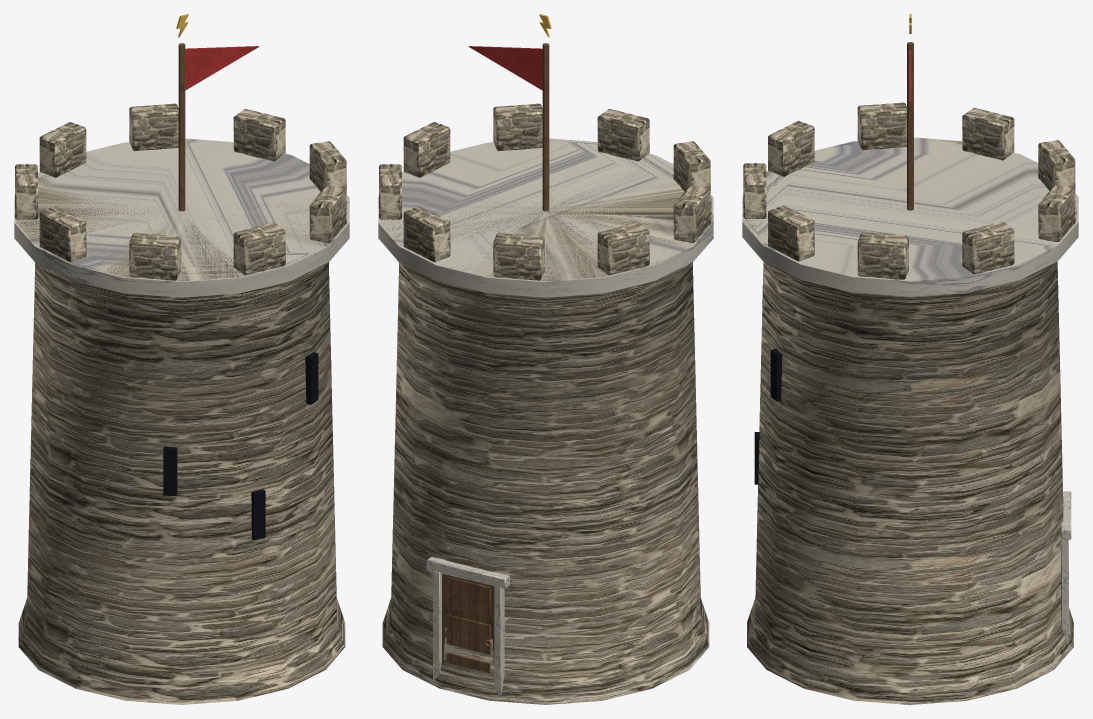
Rendered from infra_wall-tower.glb.
3 renders of one model, left to right at view 1: azimuth 30°, elevation 25°; view 2: azimuth 150°, elevation 25°; view 3: azimuth 270°, elevation 25°, orthographic.
Visible parts, largest first — view 1: stone, step, dark, cloth_red, wood_dark; view 2: stone, step, wood_dark, cloth_red; view 3: stone, step, wood_dark, dark.
Boxes of the visible parts, bbox=[...] form: stone: bbox=[15, 103, 347, 704]; step: bbox=[14, 138, 349, 297]; dark: bbox=[163, 352, 318, 540]; cloth_red: bbox=[185, 46, 259, 90]; wood_dark: bbox=[178, 43, 185, 211]; stone: bbox=[379, 103, 711, 704]; step: bbox=[378, 138, 713, 696]; wood_dark: bbox=[442, 43, 549, 672]; cloth_red: bbox=[468, 46, 542, 90]; stone: bbox=[743, 102, 1076, 704]; step: bbox=[742, 137, 1078, 646]; wood_dark: bbox=[907, 42, 913, 210]; dark: bbox=[754, 348, 782, 484].
Size of the model in its own units: 5.96 by 11.95 by 5.87.
7 materials, 5 textured.
